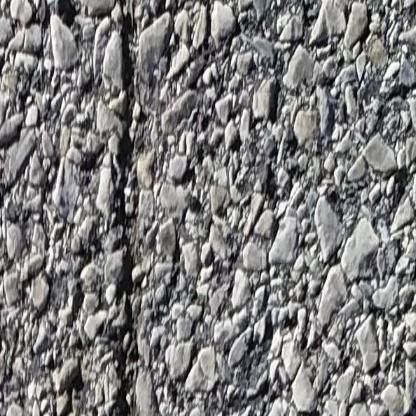Cracks: (53, 0, 150, 416), (54, 358, 88, 416)
